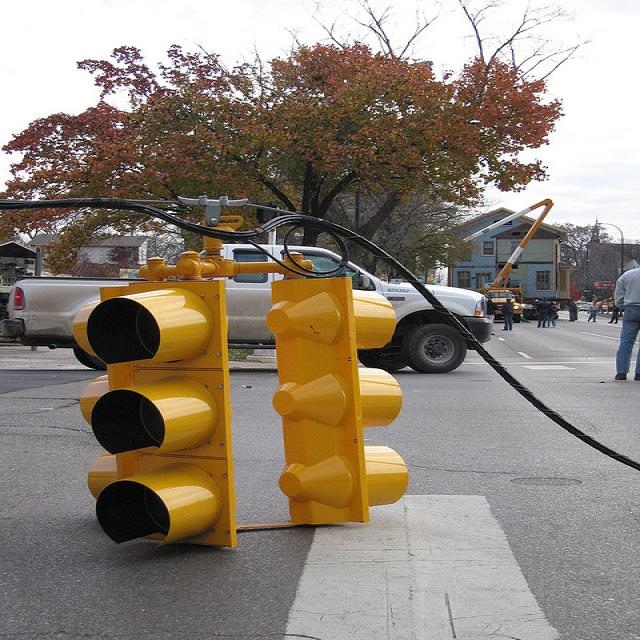Vehicle: (2, 243, 282, 344), (344, 260, 494, 370), (482, 290, 524, 324)
